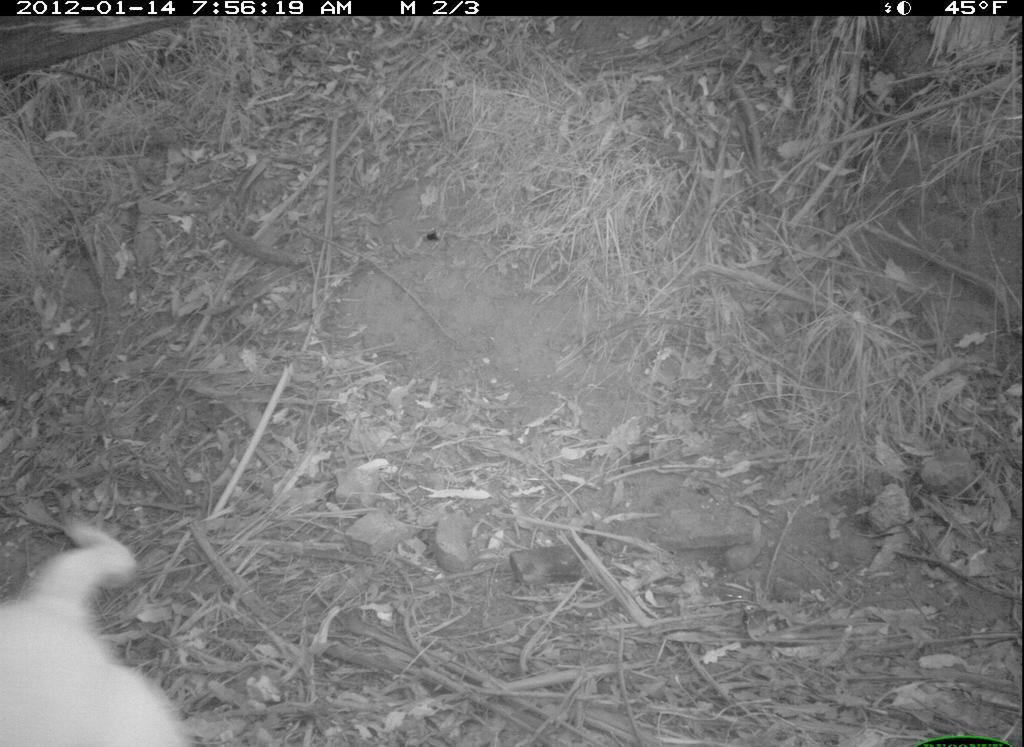dog: (6, 513, 195, 742)
